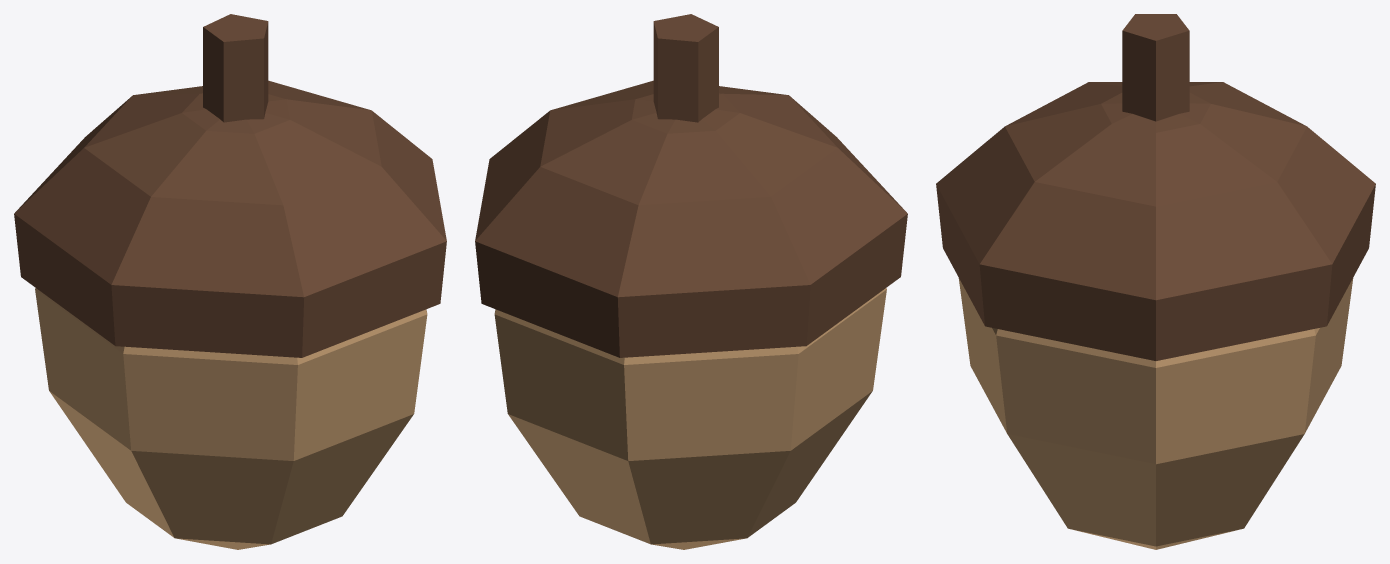
File: deco_acorn.obj
3 renders of one model, left to right at view 1: azimuth 30°, elevation 25°; view 2: azimuth 150°, elevation 25°; view 3: azimuth 270°, elevation 25°, orthographic.
Parts seen in each view (by area): view 1: deco_acorn; view 2: deco_acorn; view 3: deco_acorn.
Boxes of the visible parts, box(x1,y1,x2,y2) form: deco_acorn: box(14, 14, 446, 549); deco_acorn: box(475, 14, 907, 549); deco_acorn: box(936, 14, 1375, 549).
Bounding box in the file's own units: 0.0304 × 0.041 × 0.0312.
Materials: 1 (1 with a texture image).
